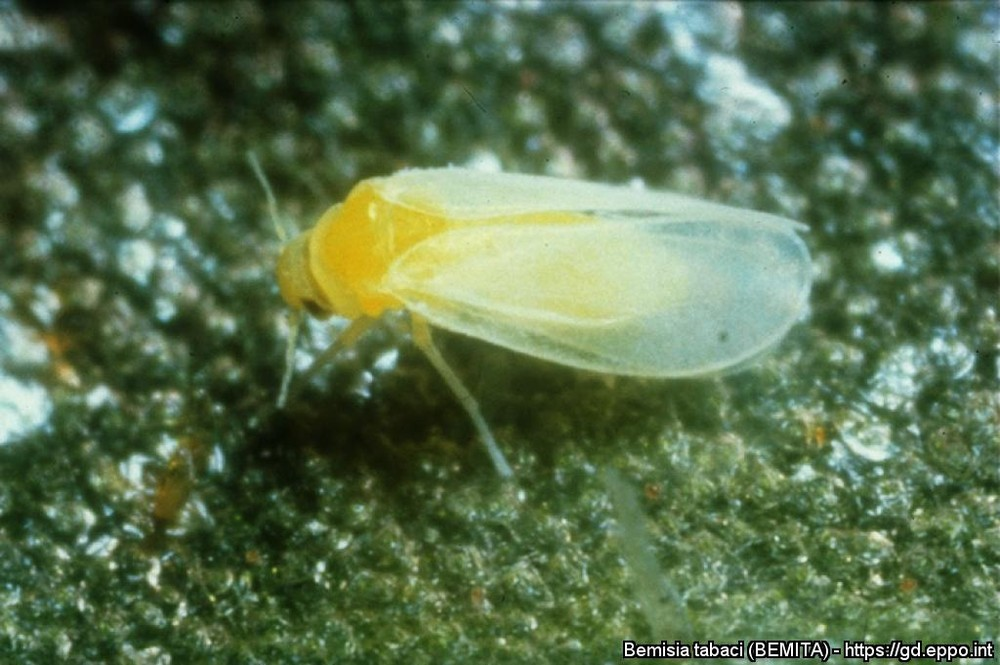Mosca Blanca: (227, 114, 846, 501)
